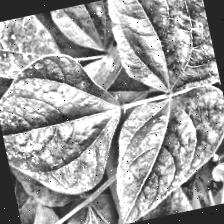Bean Rust: (0, 44, 131, 204), (91, 81, 224, 224), (103, 0, 220, 105), (42, 0, 124, 63), (0, 10, 64, 82), (178, 0, 221, 91)
